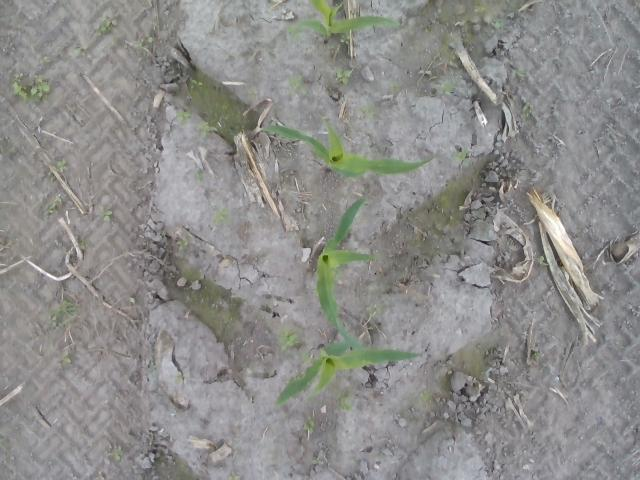Maize: (258, 120, 436, 180), (274, 338, 426, 406), (316, 195, 369, 352), (286, 0, 402, 45)
Weeds: (12, 72, 52, 103), (48, 300, 78, 326), (278, 327, 301, 350), (336, 386, 354, 412), (286, 74, 306, 96), (438, 76, 458, 97), (357, 100, 377, 119), (94, 16, 112, 37), (336, 67, 352, 88), (212, 208, 230, 224), (454, 144, 470, 162), (192, 120, 210, 136), (175, 112, 192, 128), (509, 64, 528, 78), (112, 447, 126, 465), (302, 416, 316, 432), (520, 102, 532, 118), (366, 304, 382, 316), (55, 159, 68, 173), (338, 33, 350, 48), (418, 389, 433, 401), (494, 15, 504, 32), (100, 208, 112, 222), (61, 352, 73, 365), (37, 54, 49, 67), (472, 4, 487, 14), (190, 79, 203, 90), (418, 23, 432, 32), (446, 54, 456, 66), (176, 240, 188, 250), (300, 351, 310, 363), (227, 472, 240, 480), (294, 369, 304, 378), (471, 167, 481, 176), (536, 254, 544, 264), (312, 454, 320, 464), (210, 302, 218, 309), (248, 90, 257, 96), (532, 352, 538, 359), (48, 172, 54, 177)
